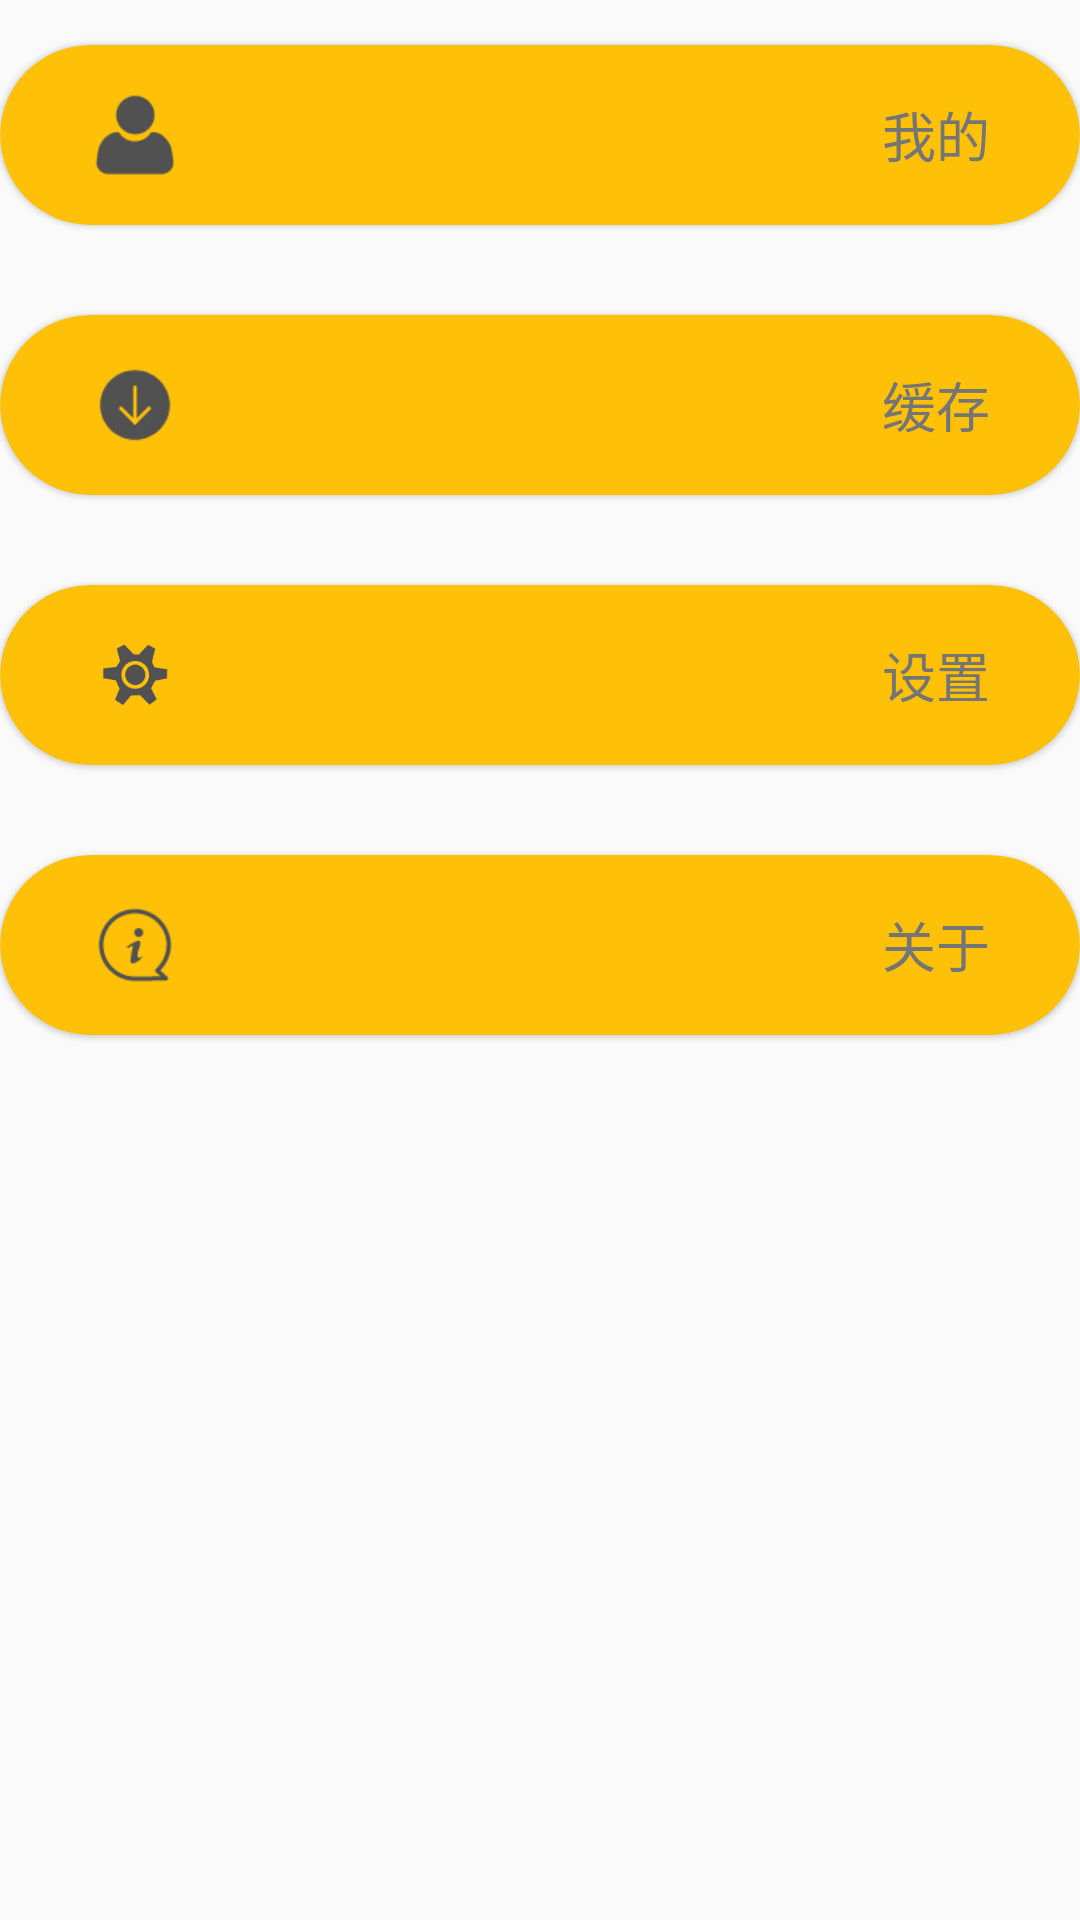

Locate icon controls on the screen. Image size 1080w x 1920h, boxes as (x1, y1, x2, y2).
about: (98, 908, 172, 982)
download: (99, 369, 171, 441)
myself: (95, 95, 174, 175)
setting: (103, 645, 168, 705)
